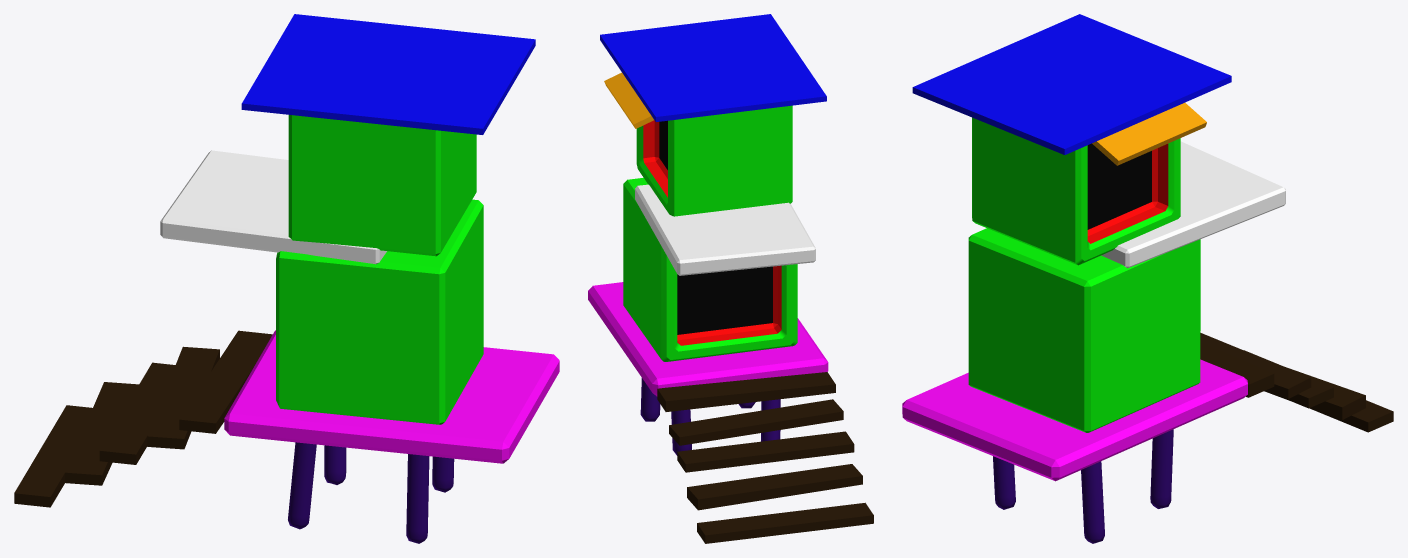
Rendered from GB_Village_House_08.fbx.
3 views of the same model, side by side, from view 1: azimuth 30°, elevation 25°; view 2: azimuth 150°, elevation 25°; view 3: azimuth 270°, elevation 25° (orthographic). The views are drawn at different scales.
Parts seen in each view (by area): view 1: GB_Village_House_08; view 2: GB_Village_House_08; view 3: GB_Village_House_08.
Part boxes in pixels (box(x1,y1,x2,y2)): GB_Village_House_08: box(14, 14, 559, 543); GB_Village_House_08: box(588, 14, 873, 543); GB_Village_House_08: box(902, 14, 1393, 543).
Size of the model in its own units: 117 by 112 by 116.
